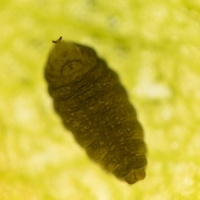insect: (45, 37, 146, 183), (52, 36, 61, 42)
